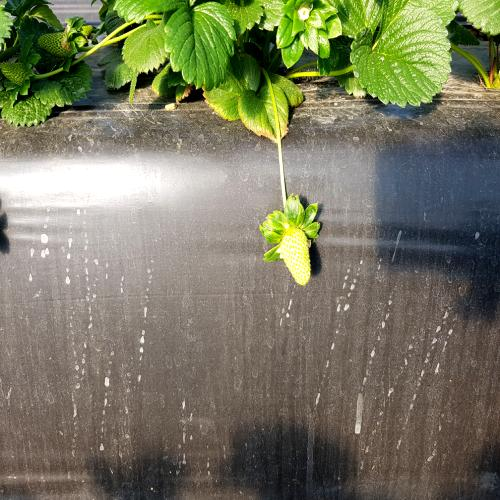unripe: (277, 223, 323, 293)
